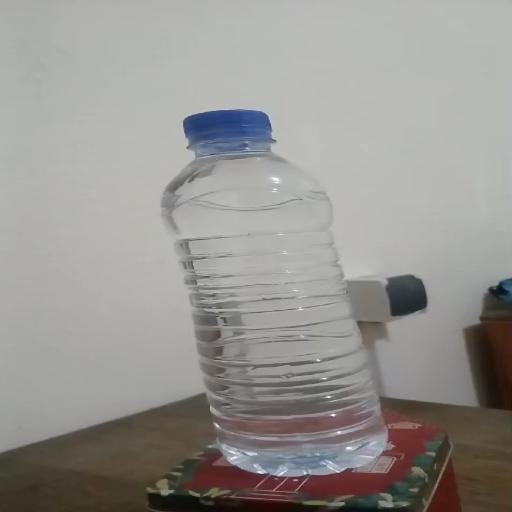bouteille non conformite: (134, 108, 402, 484), (62, 239, 414, 347)
